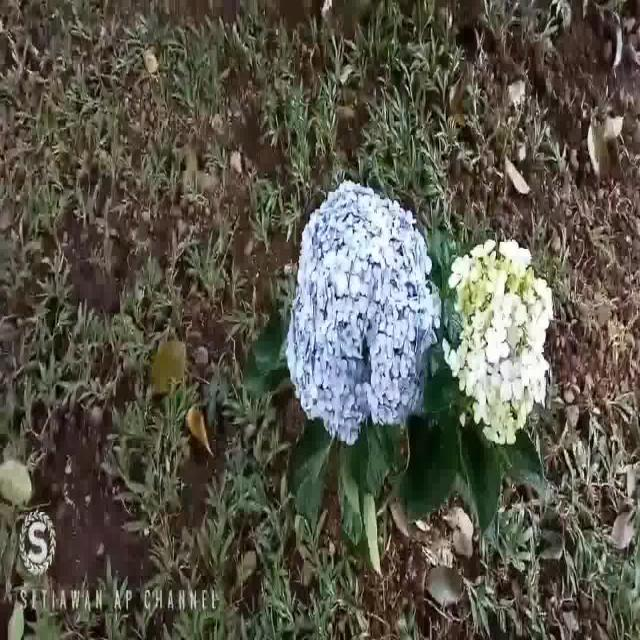Flower: (283, 178, 441, 447), (447, 238, 551, 450)
